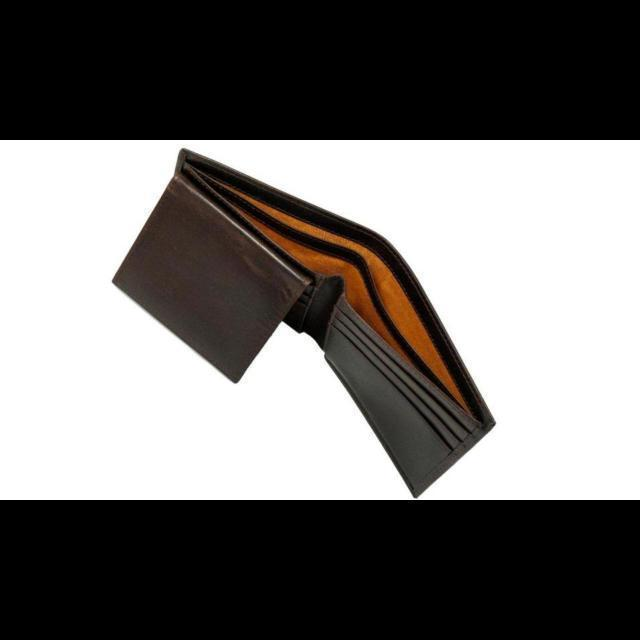wallet: (110, 147, 504, 499)
